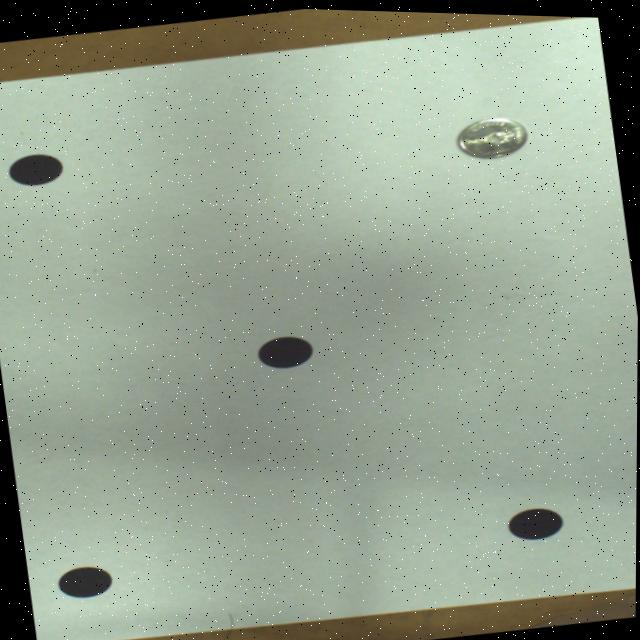space: (258, 334, 313, 366), (509, 504, 563, 536), (9, 153, 63, 184), (59, 566, 114, 596)
tail1bath: (457, 114, 527, 155)
